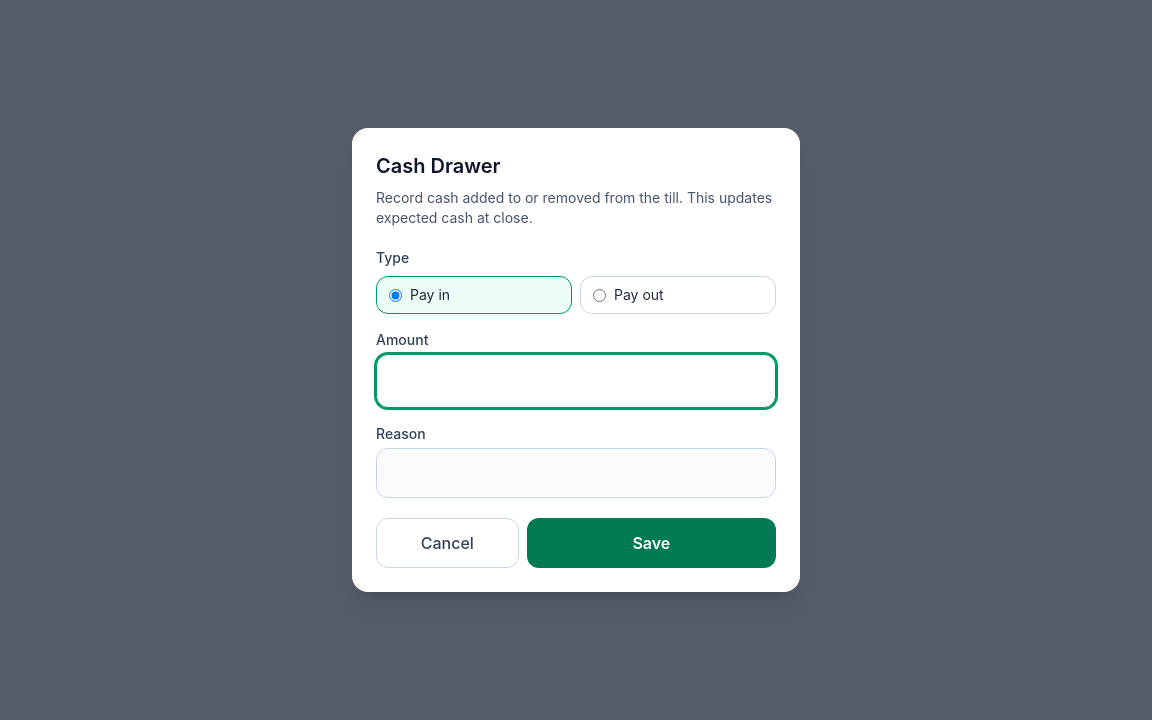
DrawerEventModal › rejects reason shorter than 10 characters
The image size is (1152, 720).
Type "10" into the field with test id "drawer-amount" at (576, 381), box [376, 354, 776, 408]
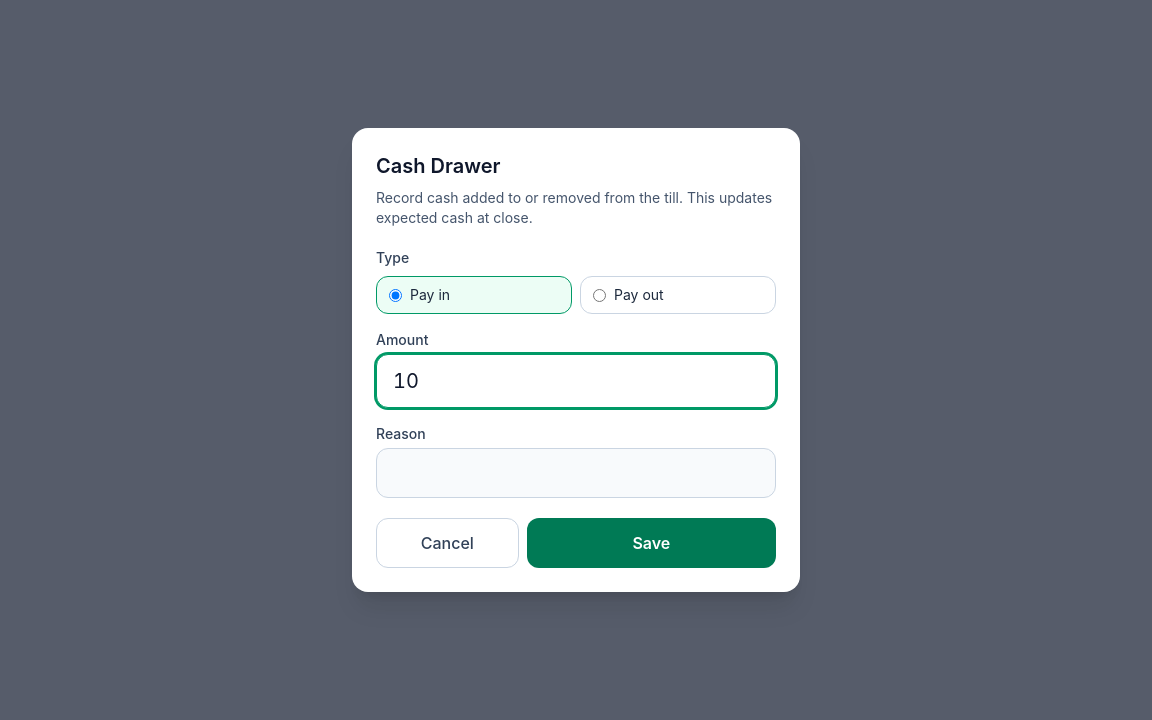
Type "PAGO" into the field with test id "drawer-reason" at (576, 473), box [376, 448, 776, 498]
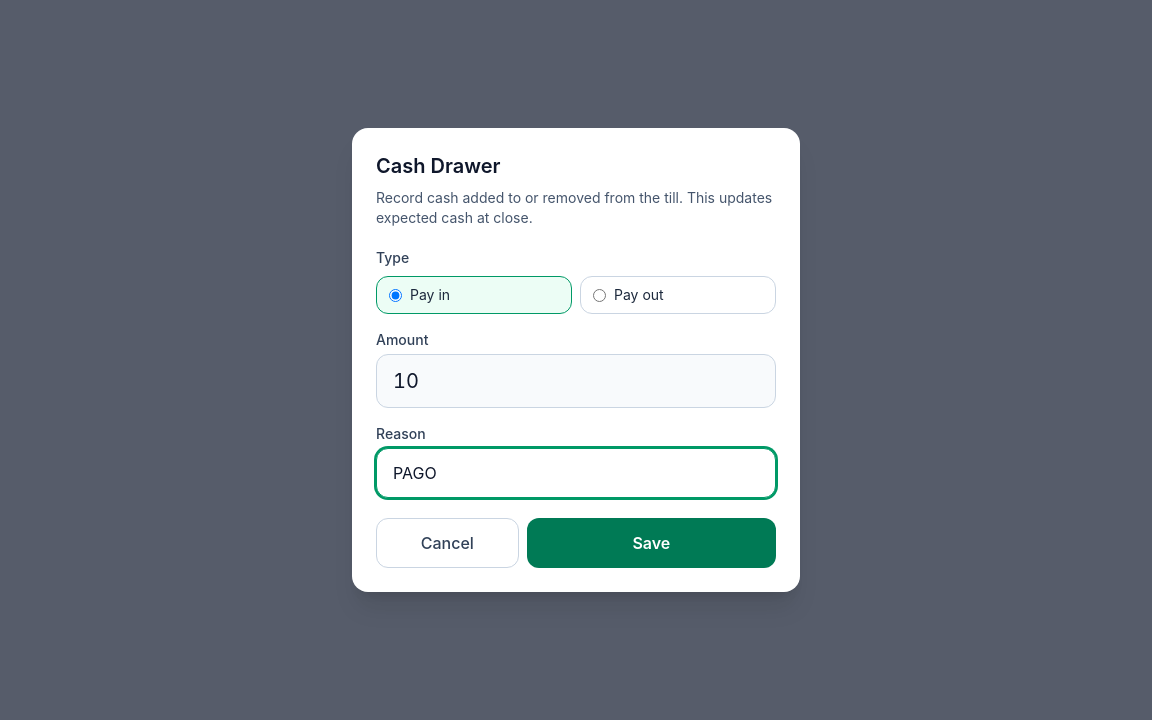
Click the button with test id "drawer-event-submit" at (651, 543), box [527, 518, 776, 568]
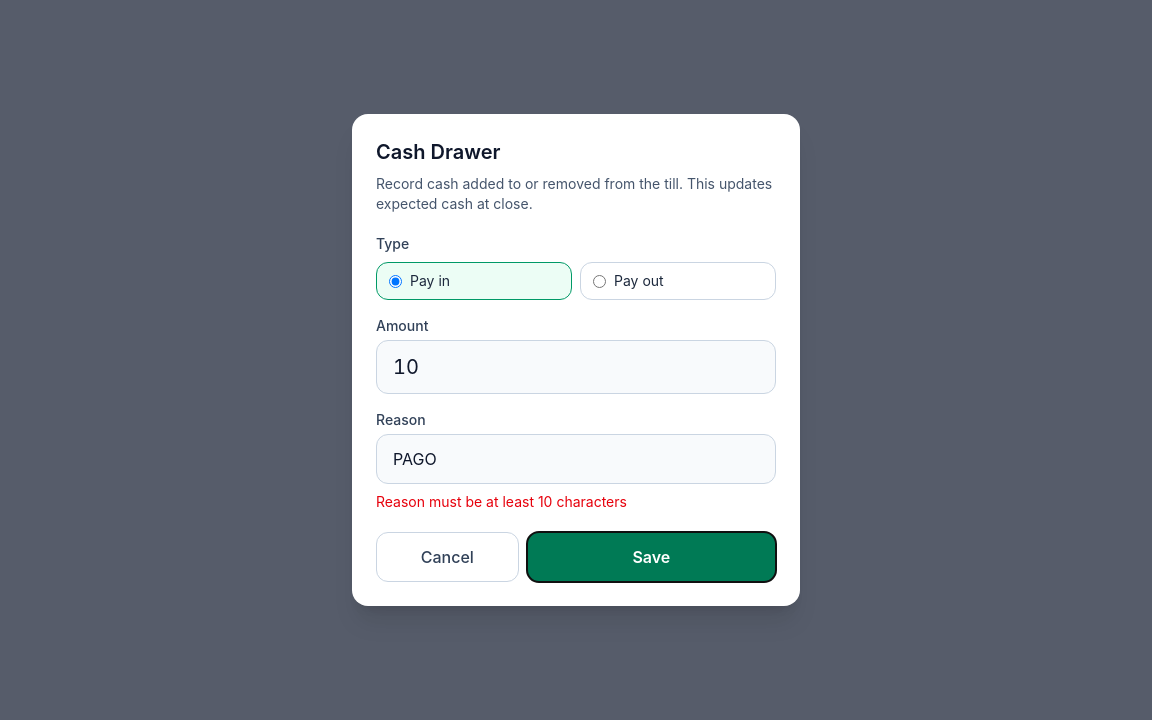
Expected: the message with test id "drawer-event-error" shows "at least 10 characters", [376, 493, 627, 510]
